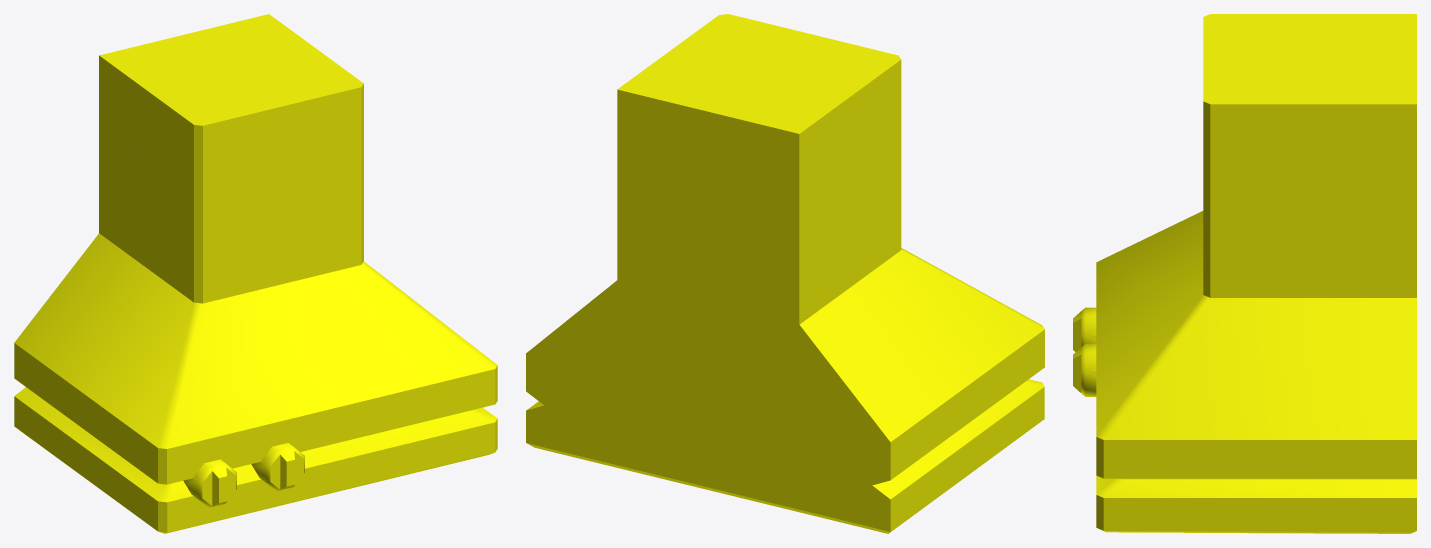
Rendered from kaykit-extractorhood.glb.
3 views of the same model, side by side, from view 1: azimuth 30°, elevation 25°; view 2: azimuth 150°, elevation 25°; view 3: azimuth 270°, elevation 25° (orthographic). The views are drawn at different scales.
Visible parts, largest first — view 1: extractorhood; view 2: extractorhood; view 3: extractorhood.
Boxes of the visible parts, x1,y1,x2,y2 form: extractorhood: (14,14,497,533); extractorhood: (526,14,1044,533); extractorhood: (1073,14,1416,533).
Bounding box in the file's own units: 2 × 2 × 1.61.
